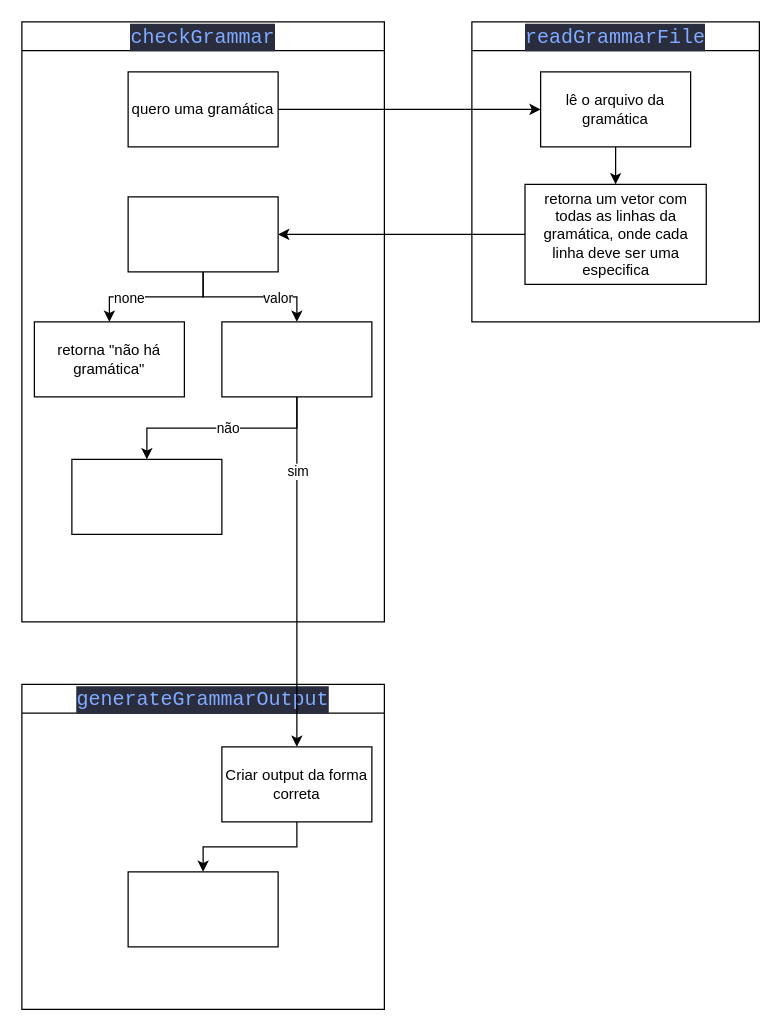
The diagram is 781 pixels wide and 1031 high, and some of its shapes have lost their labels. The centre of each missing label's shape, as x and y in pixels:
"gramática invalida": point 146,496
retorna mensagem de output: point 202,909
verifica se a função teve retorno != None: point 202,234
verifica se é uma gramática válida: point 296,359
